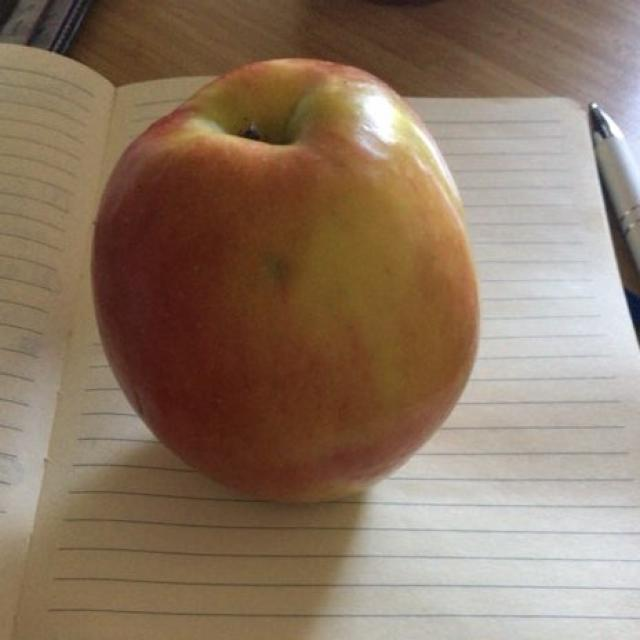apple: (90, 81, 479, 493)
